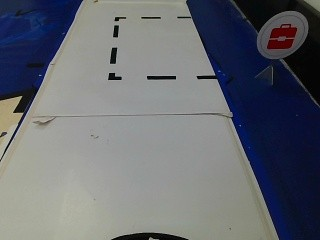company: (257, 10, 307, 60)
